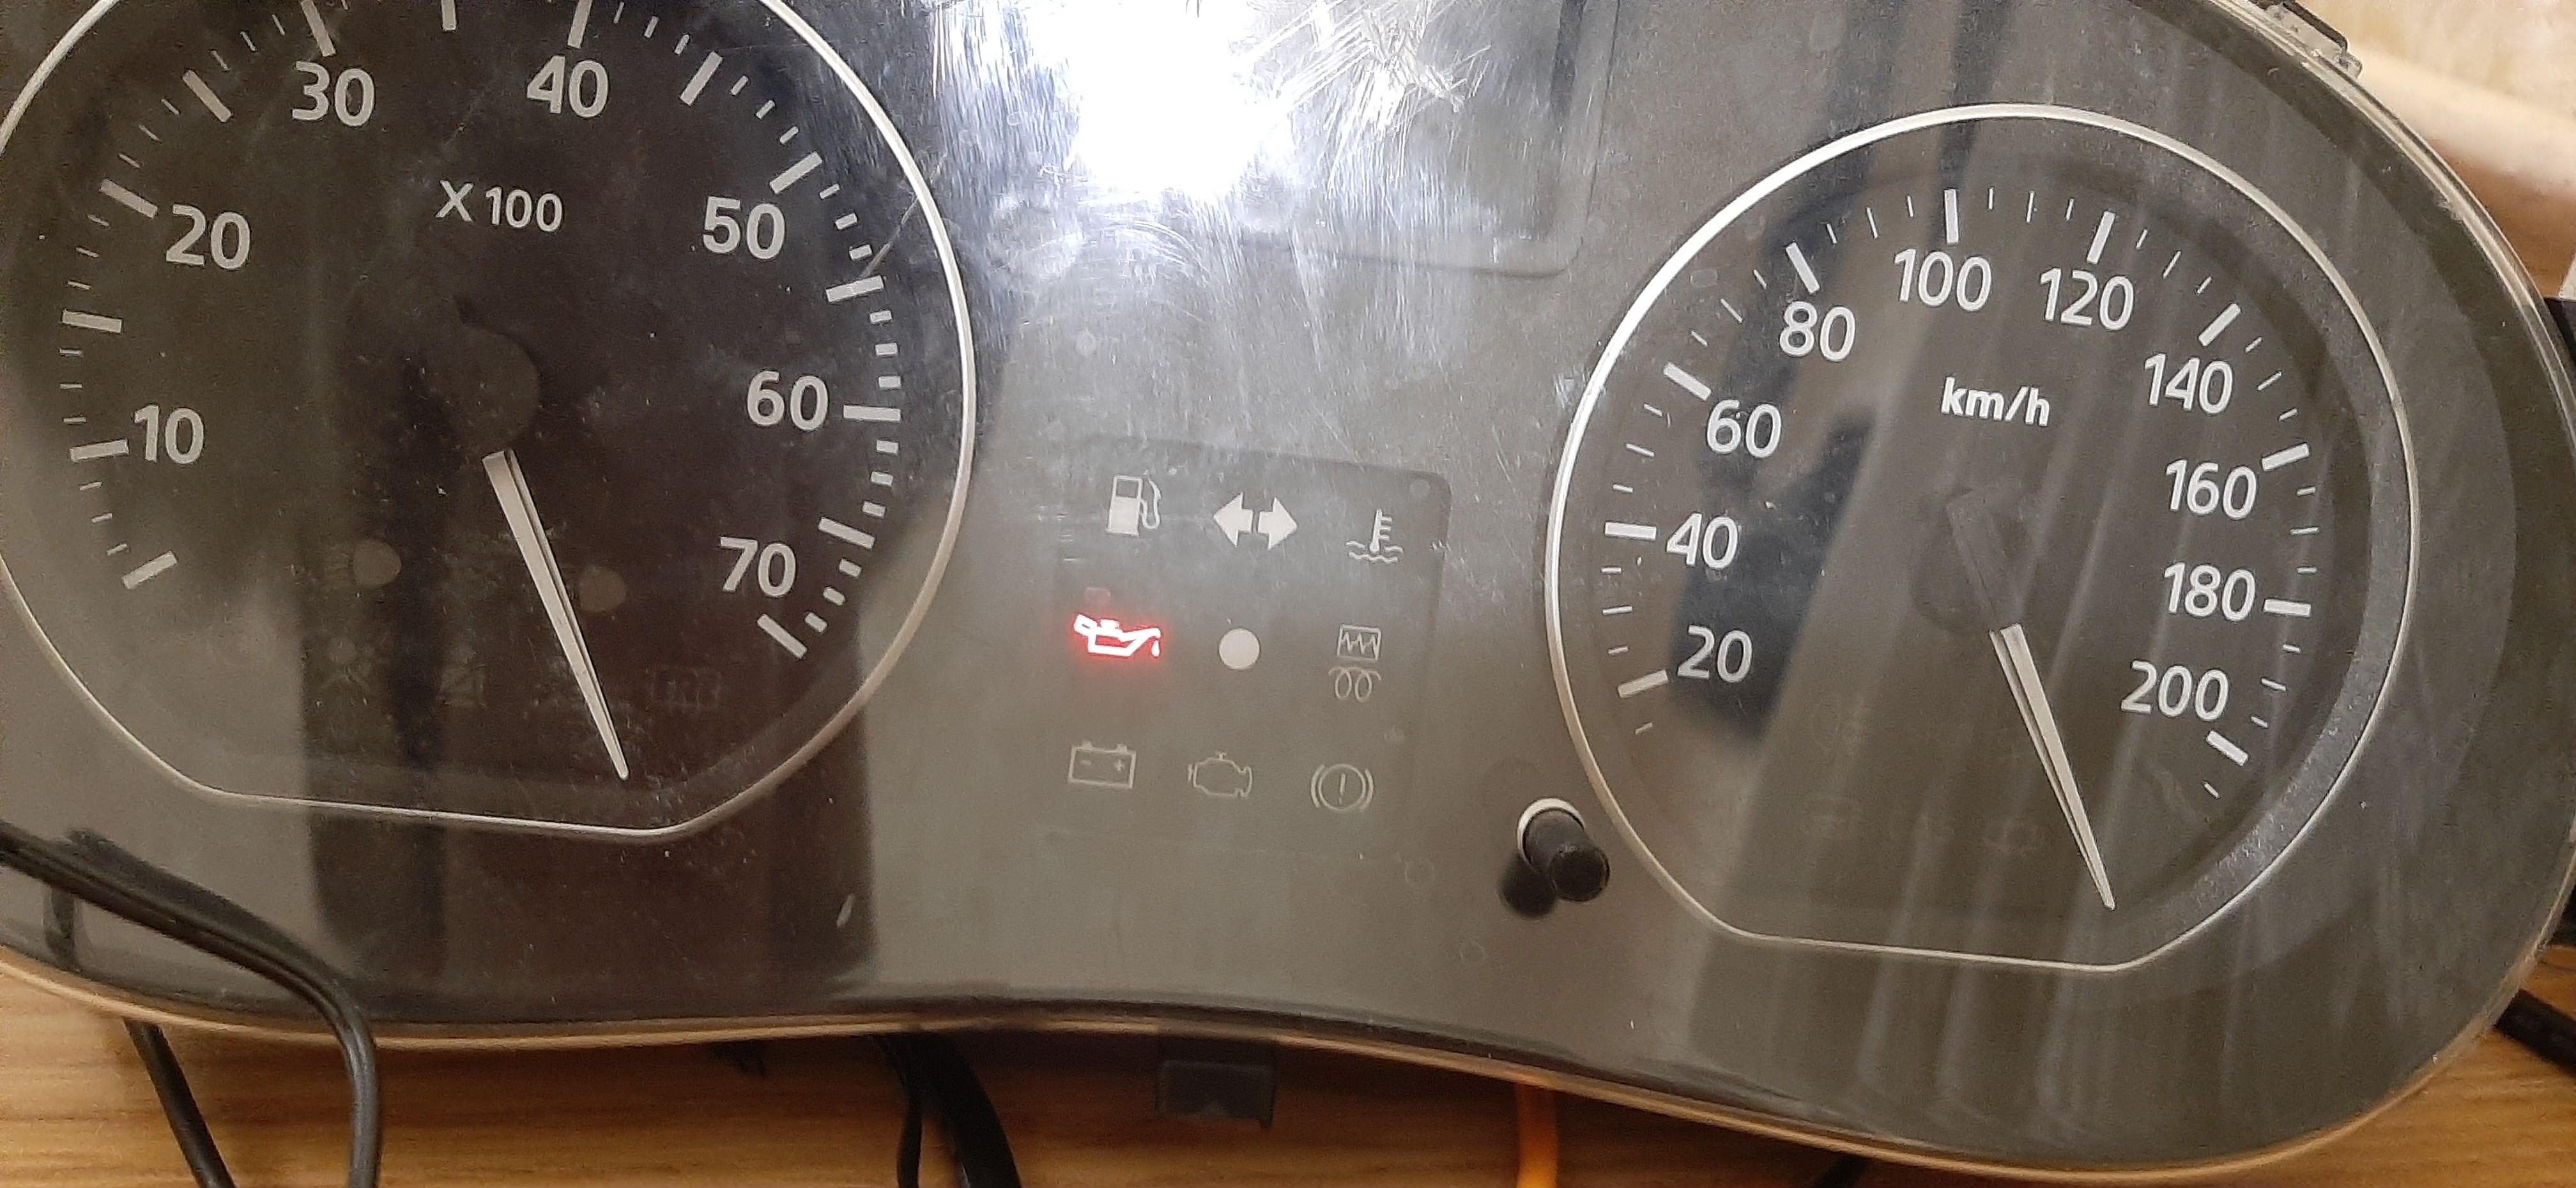oil11: (1068, 608, 1166, 662)
